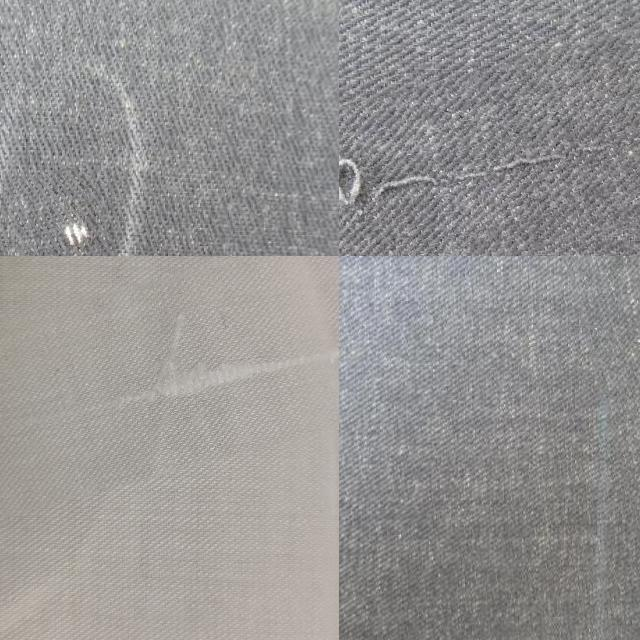stains: (0, 256, 339, 488), (339, 32, 640, 256), (10, 165, 118, 256)
